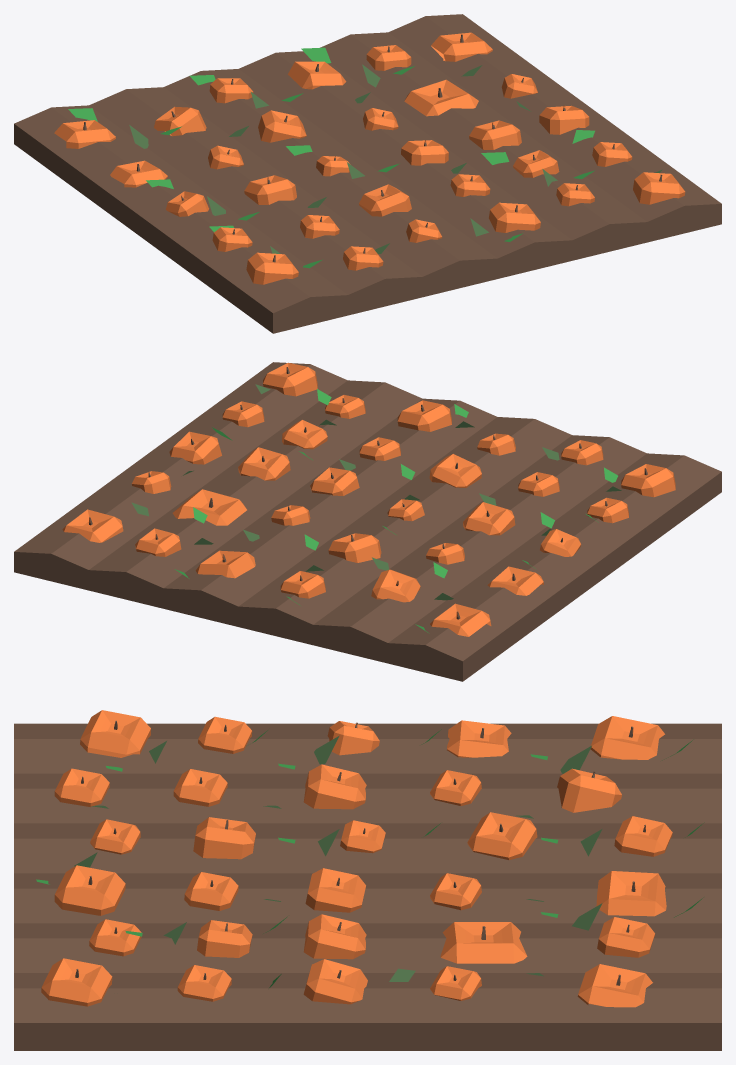
Rendered from pumpkin-farm.obj.
3 renders of one model, top to bottom at view 1: azimuth 30°, elevation 25°; view 2: azimuth 150°, elevation 25°; view 3: azimuth 270°, elevation 25°, orthographic. The views are drawn at different scales.
Parts seen in each view (by area): view 1: pumpkin-farm; view 2: pumpkin-farm; view 3: pumpkin-farm.
Part boxes in pixels (x1=…): pumpkin-farm: x1=14, y1=14, x2=721, y2=333; pumpkin-farm: x1=14, y1=362, x2=721, y2=681; pumpkin-farm: x1=14, y1=710, x2=721, y2=1050.
Size of the model in its own units: 1.96 by 0.2256 by 1.96.
